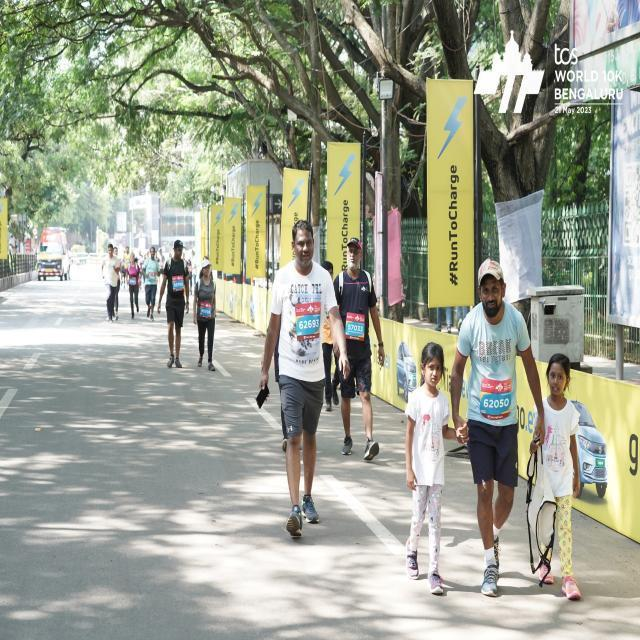dorsal: (478, 374, 513, 424), (294, 303, 322, 342), (346, 310, 366, 343)
